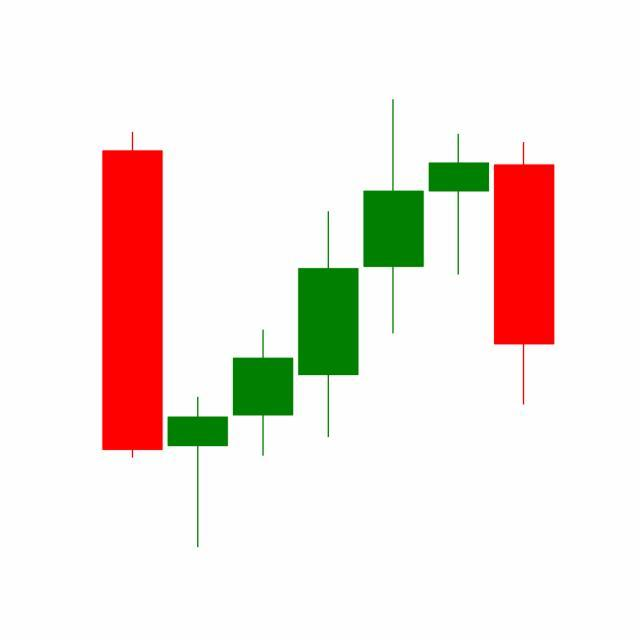Advance Block: (295, 99, 492, 443)
